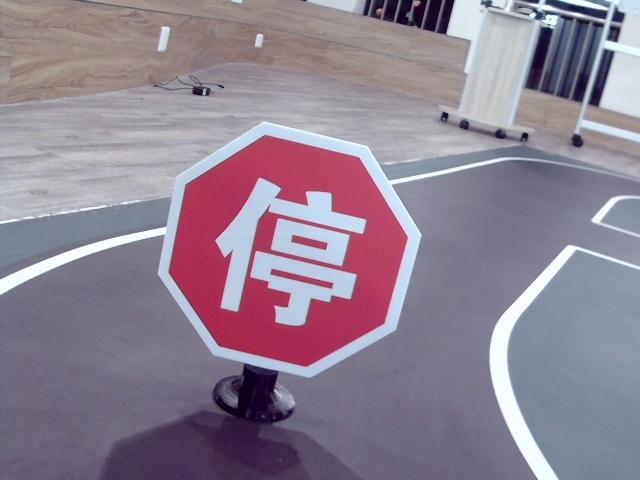stop: (214, 169, 361, 331)
